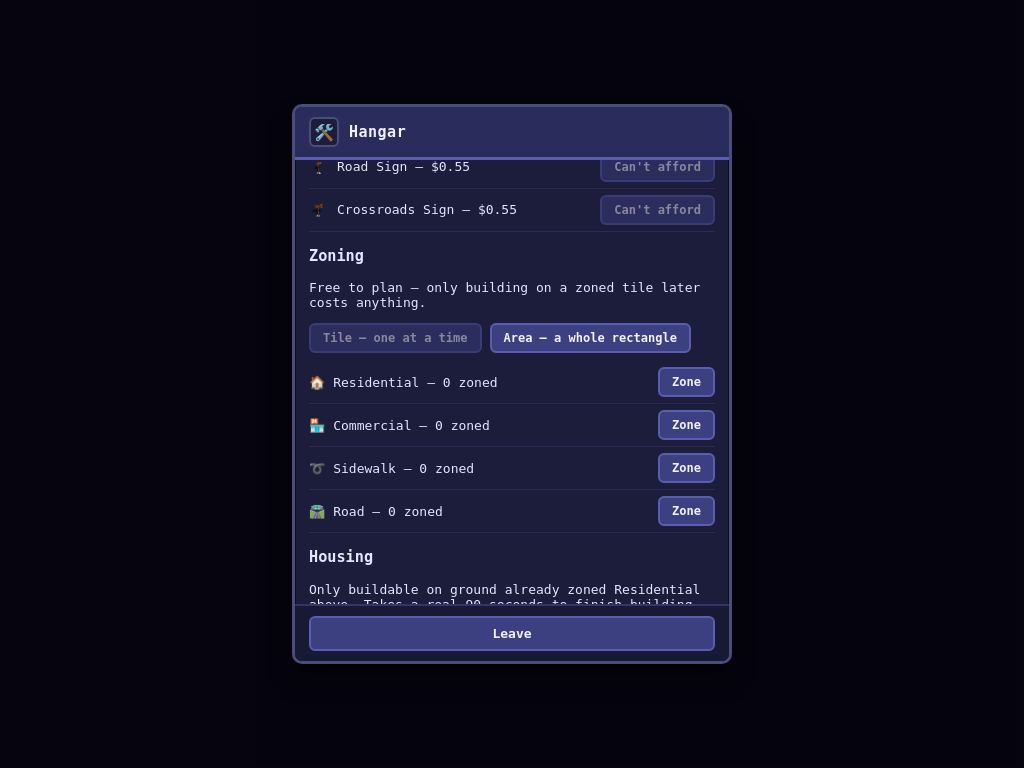
Test: HangarOverlay › Zoning (zoning.md) › zoning-rework.md — arming a type stays armed after painting, no auto-clear
The image size is (1024, 768).
(page scrolled)
What coordinates should you click on to do the following:
click the 1st button "Zone"
I would click on:
 (687, 382)
Its box is [658, 367, 715, 397].
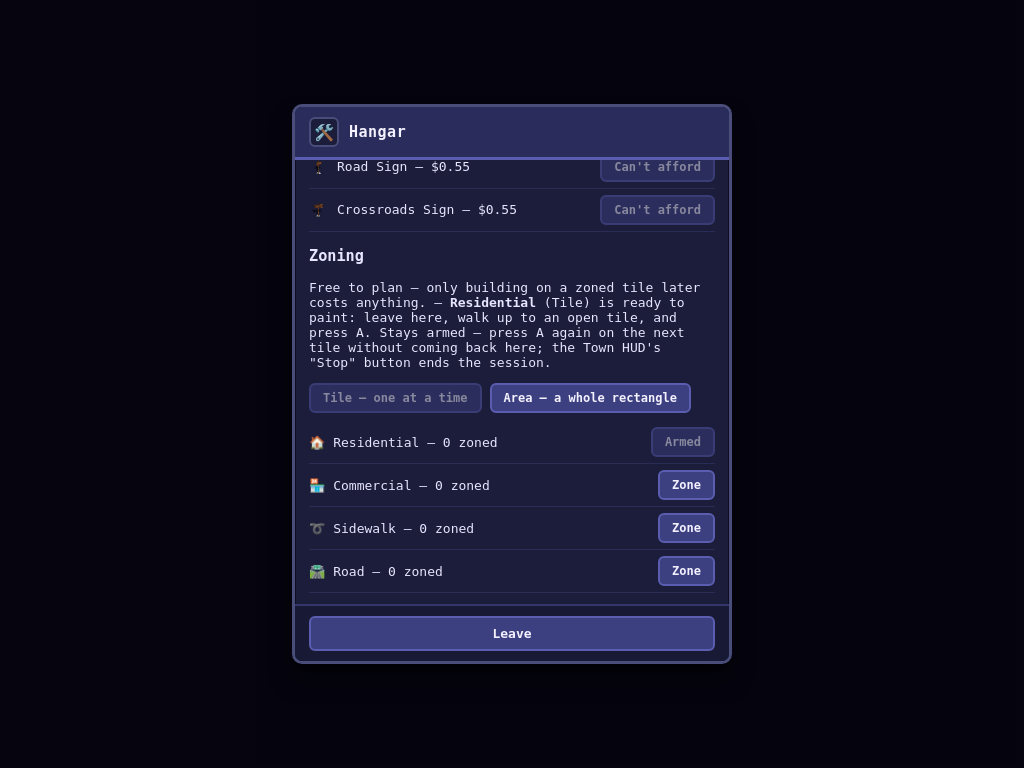
Expected: the text "Residential" is shown, [450, 295, 536, 310]
Expected: the text "Tile) is ready to paint" is shown, [309, 295, 685, 370]
